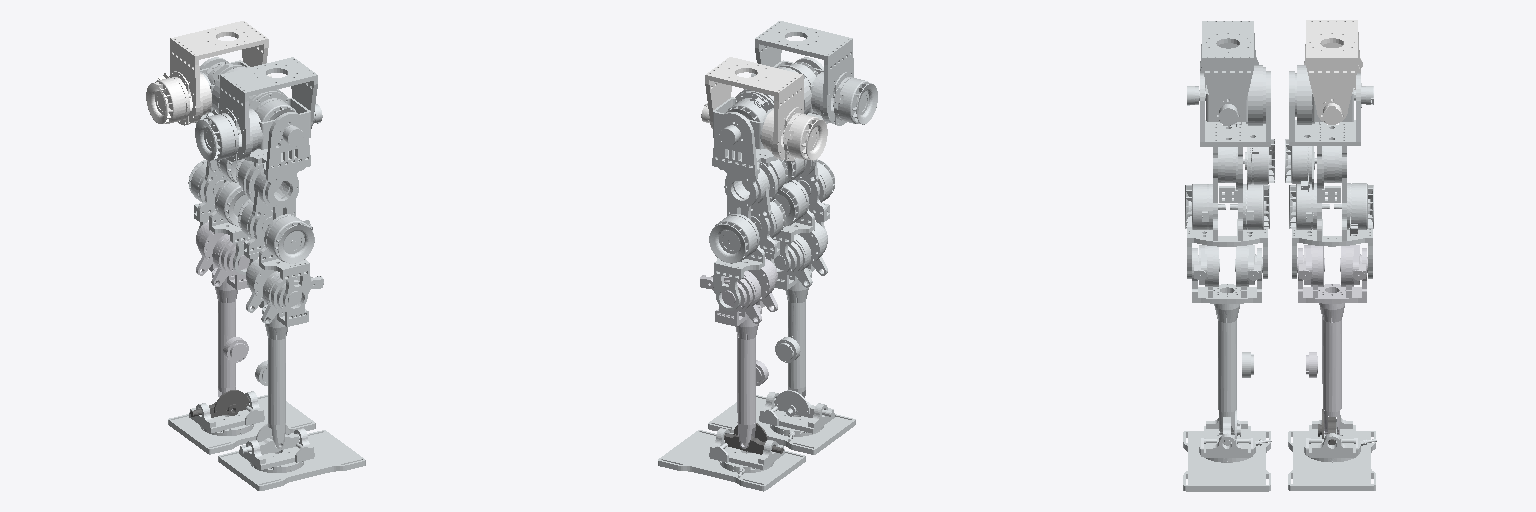
The robot description file, URDF, robot "surenav_urdf_nolink":
<?xml version="1.0" encoding="utf-8"?>
<!-- This URDF was automatically created by SolidWorks to URDF Exporter! Originally created by [author] ([email redacted]) 
     Commit Version: 1.5.1-0-g916b5db  Build Version: 1.5.7152.31018
     For more information, please see http://wiki.ros.org/sw_urdf_exporter -->
<robot
  name="surenav_urdf_nolink">
  <link
    name="base_link">
    <inertial>
      <origin
        xyz="0.00818 -0.00179 0.16869"
        rpy="0 0 0" />
      <mass
        value="13.26646" />
      <inertia
        ixx="332984918.15E-09"
        ixy="307831E-09"
        ixz="29914617.86E-09"
        iyy="274230277.97E-09"
        iyz="-4492301.25E-09"
        izz="134508501.33E-09" />
    </inertial>
    <visual>
      <origin
        xyz="0 0 0"
        rpy="0 0 0" />
      <geometry>
        <mesh
          filename="package://surenav_urdf_nolink/meshes/base_link.STL" />
      </geometry>
      <material
        name="">
        <color
          rgba="0.752941176470588 0.752941176470588 0.752941176470588 1" />
      </material>
    </visual>
    <collision>
      <origin
        xyz="0 0 0"
        rpy="0 0 0" />
      <geometry>
        <mesh
          filename="package://surenav_urdf_nolink/meshes/base_link.STL" />
      </geometry>
    </collision>
  </link>
  <link
    name="r_hip_yaw_link">
    <inertial>
      <origin
        xyz="-0.07623 0.00014361 -0.090014"
        rpy="0 0 0" />
      <mass
        value="3.1729" />
      <inertia
        ixx="8929283.98E-09"
        ixy="-21205.17E-09"
        ixz="3833057.75E-09"
        iyy="19584487.55E-09"
        iyz="-1821.5E-09"
        izz="15246525.80E-09" />
    </inertial>
    <visual>
      <origin
        xyz="0 0 0"
        rpy="0 0 0" />
      <geometry>
        <mesh
          filename="package://surenav_urdf_nolink/meshes/r_hip_yaw_link.STL" />
      </geometry>
      <material
        name="">
        <color
          rgba="0.89804 0.91765 0.92941 1" />
      </material>
    </visual>
    <collision>
      <origin
        xyz="0 0 0"
        rpy="0 0 0" />
      <geometry>
        <mesh
          filename="package://surenav_urdf_nolink/meshes/r_hip_yaw_link.STL" />
      </geometry>
    </collision>
  </link>
  <joint
    name="r_hip_yaw_joint"
    type="fixed">
    <origin
      xyz="0.016506 -0.1 -0.026"
      rpy="0 0 0" />
    <parent
      link="base_link" />
    <child
      link="r_hip_yaw_link" />
    <axis
      xyz="0 0 0" />
    <!--limit
      lower="0"
      upper="0"
      effort="0"
      velocity="0" /-->
    <limit effort="1000.0" lower="-100" upper="100" velocity="0.5"/>
  </joint>
  <link
    name="r_hip_roll_link">
    <inertial>
      <origin
        xyz="0.000984969543886728 0.0247755120757208 -0.00015880471566998"
        rpy="0 0 0" />
      <mass
        value="2.44028233906507" />
      <inertia
        ixx="5217937.18E-09"
        ixy="-56992.30E-09"
        ixz="-6391.68E-09"
        iyy="3987938.51E-09"
        iyz="4815.28E-09"
        izz="5553044.11E-09" />
    </inertial>
    <visual>
      <origin
        xyz="0 0 0"
        rpy="0 0 0" />
      <geometry>
        <mesh
          filename="package://surenav_urdf_nolink/meshes/r_hip_roll_link.STL" />
      </geometry>
      <material
        name="">
        <color
          rgba="0.898039215686275 0.917647058823529 0.929411764705882 1" />
      </material>
    </visual>
    <collision>
      <origin
        xyz="0 0 0"
        rpy="0 0 0" />
      <geometry>
        <mesh
          filename="package://surenav_urdf_nolink/meshes/r_hip_roll_link.STL" />
      </geometry>
    </collision>
  </link>
  <joint
    name="r_hip_roll_joint"
    type="revolute">
    <origin
      xyz="-0.002 0 -0.1113"
      rpy="0 0 0" />
    <parent
      link="r_hip_yaw_link" />
    <child
      link="r_hip_roll_link" />
    <axis
      xyz="1 0 0" />
    <!--limit
      lower="0"
      upper="0"
      effort="0"
      velocity="0" /-->
    <limit effort="1000.0" lower="-100" upper="100" velocity="0.5"/>
  </joint>
  <link
    name="r_hip_pitch_link">
    <inertial>
      <origin
        xyz="-0.00086 0.01229 -0.18794"
        rpy="0 0 0" />
      <mass
        value="5.27157" />
      <inertia
        ixx="49460315.63E-09"
        ixy="127037.57E-09"
        ixz="827222.84E-09"
        iyy="40774320.32E-09"
        iyz="4561394.08E-09"
        izz="15641537.19E-09" />
    </inertial>
    <visual>
      <origin
        xyz="0 0 0"
        rpy="0 0 0" />
      <geometry>
        <mesh
          filename="package://surenav_urdf_nolink/meshes/r_hip_pitch_link.STL" />
      </geometry>
      <material
        name="">
        <color
          rgba="0.898039215686275 0.917647058823529 0.929411764705882 1" />
      </material>
    </visual>
    <collision>
      <origin
        xyz="0 0 0"
        rpy="0 0 0" />
      <geometry>
        <mesh
          filename="package://surenav_urdf_nolink/meshes/r_hip_pitch_link.STL" />
      </geometry>
    </collision>
  </link>
  <joint
    name="r_hip_pitch_joint"
    type="revolute">
    <origin
      xyz="0 0 0"
      rpy="0 0 0" />
    <parent
      link="r_hip_roll_link" />
    <child
      link="r_hip_pitch_link" />
    <axis
      xyz="0 -1 0" />
    <!--limit
      lower="0"
      upper="0"
      effort="0"
      velocity="0" /-->
    <limit effort="1000.0" lower="-100" upper="100" velocity="0.5"/>
  </joint>
  <link
    name="r_knee_link">
    <inertial>
      <origin
        xyz="0.01649 0.00164 -0.08690"
        rpy="0 0 0" />
      <mass
        value="2.23575" />
      <inertia
        ixx="32098078.78E-09"
        ixy="-53528.00E-09"
        ixz="-355923.32E-09"
        iyy="30953084.53E-09"
        iyz="-465088.29E-09"
        izz="5703262.33E-09" />
    </inertial>
    <visual>
      <origin
        xyz="0 0 0"
        rpy="0 0 0" />
      <geometry>
        <mesh
          filename="package://surenav_urdf_nolink/meshes/r_knee_link.STL" />
      </geometry>
      <material
        name="">
        <color
          rgba="0.898039215686275 0.917647058823529 0.929411764705882 1" />
      </material>
    </visual>
    <collision>
      <origin
        xyz="0 0 0"
        rpy="0 0 0" />
      <geometry>
        <mesh
          filename="package://surenav_urdf_nolink/meshes/r_knee_link.STL" />
      </geometry>
    </collision>
  </link>
  <joint
    name="r_knee_joint"
    type="revolute">
    <origin
      xyz="8.90422801721746E-05 -0.00199999999999427 -0.360035173572729"
      rpy="0 0 0" />
    <parent
      link="r_hip_pitch_link" />
    <child
      link="r_knee_link" />
    <axis
      xyz="0 -1 0" />
    <!--limit
      lower="0"
      upper="0"
      effort="0"
      velocity="0" /-->
    <limit effort="1000.0" lower="-100" upper="100" velocity="0.5"/>
  </joint>
  <link
    name="r_ankle_pitch_link">
    <inertial>
      <origin
        xyz="-0.03478 0.00111 -0.00042"
        rpy="0 0 0" />
      <mass
        value="0.18834" />
      <inertia
        ixx="29449.50E-09"
        ixy="7347.02E-09"
        ixz="-3099.27E-09"
        iyy="363852.27E-09"
        iyz="2750.26E-09"
        izz="359077.66E-09" />
    </inertial>
    <visual>
      <origin
        xyz="0 0 0"
        rpy="0 0 0" />
      <geometry>
        <mesh
          filename="package://surenav_urdf_nolink/meshes/r_ankle_pitch_link.STL" />
      </geometry>
      <material
        name="">
        <color
          rgba="0.898039215686275 0.917647058823529 0.929411764705882 1" />
      </material>
    </visual>
    <collision>
      <origin
        xyz="0 0 0"
        rpy="0 0 0" />
      <geometry>
        <mesh
          filename="package://surenav_urdf_nolink/meshes/r_ankle_pitch_link.STL" />
      </geometry>
    </collision>
  </link>
  <joint
    name="r_ankle_pitch_joint"
    type="revolute">
    <origin
      xyz="0.000997412382606738 0 -0.350014948599999"
      rpy="0 0 0" />
    <parent
      link="r_knee_link" />
    <child
      link="r_ankle_pitch_link" />
    <axis
      xyz="0 1 0" />
    <!--limit
      lower="0"
      upper="0"
      effort="0"
      velocity="0" /-->
    <limit effort="1000.0" lower="-100" upper="100" velocity="0.5"/>
  </joint>
  <link
    name="r_ankle_roll_link">
    <inertial>
      <origin
        xyz="0.0261782638901839 0.000138793078492322 -0.040153711347177"
        rpy="0 0 0" />
      <mass
        value="1.8066" />
      <inertia
        ixx="3491091.22E-09"
        ixy="-12700.75E-09"
        ixz="-370501.43E-09"
        iyy="8640458.28E-09"
        iyz="1060.27E-09"
        izz="11463586.62E-09" />
    </inertial>
    <visual>
      <origin
        xyz="0 0 0"
        rpy="0 0 0" />
      <geometry>
        <mesh
          filename="package://surenav_urdf_nolink/meshes/r_ankle_roll_link.STL" />
      </geometry>
      <material
        name="">
        <color
          rgba="0.898039215686275 0.917647058823529 0.929411764705882 1" />
      </material>
    </visual>
    <collision>
      <origin
        xyz="0 0 0"
        rpy="0 0 0" />
      <geometry>
        <mesh
          filename="package://surenav_urdf_nolink/meshes/r_ankle_roll_link.STL" />
      </geometry>
    </collision>
  </link>
  <joint
    name="r_ankle_roll_joint"
    type="revolute">
    <origin
      xyz="0 0 5.60144157897291E-05"
      rpy="0 0 0" />
    <parent
      link="r_ankle_pitch_link" />
    <child
      link="r_ankle_roll_link" />
    <axis
      xyz="-1 0 0" />
    <!--limit
      lower="0"
      upper="0"
      effort="0"
      velocity="0" /-->
    <limit effort="1000.0" lower="-100" upper="100" velocity="0.5"/>
  </joint>
  <link
    name="l_hip_yaw_link">
    <inertial>
      <origin
        xyz="-0.07571 0.00009 -0.09"
        rpy="0 0 0" />
      <mass
        value="3.1707" />
      <inertia
        ixx="8925306.69E-09"
        ixy="-14981.60E-09"
        ixz="3799016.92E-09"
        iyy="19351339.17E-09"
        iyz="1589.68E-09"
        izz="15015860.89E-09" />
    </inertial>
    <visual>
      <origin
        xyz="0 0 0"
        rpy="0 0 0" />
      <geometry>
        <mesh
          filename="package://surenav_urdf_nolink/meshes/l_hip_yaw_link.STL" />
      </geometry>
      <material
        name="">
        <color
          rgba="1 1 1 1" />
      </material>
    </visual>
    <collision>
      <origin
        xyz="0 0 0"
        rpy="0 0 0" />
      <geometry>
        <mesh
          filename="package://surenav_urdf_nolink/meshes/l_hip_yaw_link.STL" />
      </geometry>
    </collision>
  </link>
  <joint
    name="l_hip_yaw_joint"
    type="fixed">
    <origin
      xyz="0.01650599171992 0.100000001517939 -0.0256"
      rpy="0 0 0" />
    <parent
      link="base_link" />
    <child
      link="l_hip_yaw_link" />
    <axis
      xyz="0 0 0" />
    <!--limit
      lower="0"
      upper="0"
      effort="0"
      velocity="0" /-->
    <limit effort="1000.0" lower="-100" upper="100" velocity="0.5"/>
  </joint>
  <link
    name="l_hip_roll_link">
    <inertial>
      <origin
        xyz="0.00085 -0.02478 0.00015"
        rpy="0 0 0" />
      <mass
        value="2.43805" />
      <inertia
        ixx="5214396.90E-09"
        ixy="53098.89E-09"
        ixz="-8574.92E-09"
        iyy="3985605E-09"
        iyz="4482.24E-09"
        izz="5554247.3E-09" />
    </inertial>
    <visual>
      <origin
        xyz="0 0 0"
        rpy="0 0 0" />
      <geometry>
        <mesh
          filename="package://surenav_urdf_nolink/meshes/l_hip_roll_link.STL" />
      </geometry>
      <material
        name="">
        <color
          rgba="0.898039215686275 0.917647058823529 0.929411764705882 1" />
      </material>
    </visual>
    <collision>
      <origin
        xyz="0 0 0"
        rpy="0 0 0" />
      <geometry>
        <mesh
          filename="package://surenav_urdf_nolink/meshes/l_hip_roll_link.STL" />
      </geometry>
    </collision>
  </link>
  <joint
    name="l_hip_roll_joint"
    type="revolute">
    <origin
      xyz="-0.00199999999999425 0 -0.11129999969309"
      rpy="0 0 0" />
    <parent
      link="l_hip_yaw_link" />
    <child
      link="l_hip_roll_link" />
    <axis
      xyz="1 0 0" />
    <!--limit
      lower="0"
      upper="0"
      effort="0"
      velocity="0" /-->
    <limit effort="1000.0" lower="-100" upper="100" velocity="0.5"/>
  </joint>
  <link
    name="l_hip_pitch_link">
    <inertial>
      <origin
        xyz="-0.00086 -0.013 -0.18504"
        rpy="0 0 0" />
      <mass
        value="5.61487" />
      <inertia
        ixx="50456343.28E-09"
        ixy="-139977.67E-09"
        ixz="787977.57E-09"
        iyy="42055621.32E-09"
        iyz="-4073599.3E-09"
        izz="15900319.78E-09" />
    </inertial>
    <visual>
      <origin
        xyz="0 0 0"
        rpy="0 0 0" />
      <geometry>
        <mesh
          filename="package://surenav_urdf_nolink/meshes/l_hip_pitch_link.STL" />
      </geometry>
      <material
        name="">
        <color
          rgba="0.898039215686275 0.917647058823529 0.929411764705882 1" />
      </material>
    </visual>
    <collision>
      <origin
        xyz="0 0 0"
        rpy="0 0 0" />
      <geometry>
        <mesh
          filename="package://surenav_urdf_nolink/meshes/l_hip_pitch_link.STL" />
      </geometry>
    </collision>
  </link>
  <joint
    name="l_hip_pitch_joint"
    type="revolute">
    <origin
      xyz="0 0 0"
      rpy="0 0 0" />
    <parent
      link="l_hip_roll_link" />
    <child
      link="l_hip_pitch_link" />
    <axis
      xyz="0 1 0" />
    <!--limit
      lower="0"
      upper="0"
      effort="0"
      velocity="0" /-->
    <limit effort="1000.0" lower="-100" upper="100" velocity="0.5"/>
  </joint>
  <link
    name="l_knee_link">
    <inertial>
      <origin
        xyz="0.01575 -0.00162 -0.08673"
        rpy="0 0 0" />
      <mass
        value="2.23418" />
      <inertia
        ixx="31992216.05E-09"
        ixy="60131.35E-09"
        ixz="-310433.24E-09"
        iyy="30880490.34E-09"
        iyz="438008.7E-09"
        izz="5724563.57E-09" />
    </inertial>
    <visual>
      <origin
        xyz="0 0 0"
        rpy="0 0 0" />
      <geometry>
        <mesh
          filename="package://surenav_urdf_nolink/meshes/l_knee_link.STL" />
      </geometry>
      <material
        name="">
        <color
          rgba="0.890196078431372 0.890196078431372 0.913725490196078 1" />
      </material>
    </visual>
    <collision>
      <origin
        xyz="0 0 0"
        rpy="0 0 0" />
      <geometry>
        <mesh
          filename="package://surenav_urdf_nolink/meshes/l_knee_link.STL" />
      </geometry>
    </collision>
  </link>
  <joint
    name="l_knee_joint"
    type="revolute">
    <origin
      xyz="0.00103757953495294 0 -0.35988271232031"
      rpy="0 0 0" />
    <parent
      link="l_hip_pitch_link" />
    <child
      link="l_knee_link" />
    <axis
      xyz="0 -1 0" />
    <!--limit
      lower="0"
      upper="0"
      effort="0"
      velocity="0" /-->
    <limit effort="1000.0" lower="-100" upper="100" velocity="0.5"/>
  </joint>
  <link
    name="l_ankle_pitch_link">
    <inertial>
      <origin
        xyz="-0.003478 -0.00112 -0.00042"
        rpy="0 0 0" />
      <mass
        value="0.18834" />
      <inertia
        ixx="29444.91E-09"
        ixy="-7241.52E-09"
        ixz="-3110.24E-09"
        iyy="363885.79E-09"
        iyz="-2909.32E-09"
        izz="359039.5E-09" />
    </inertial>
    <visual>
      <origin
        xyz="0 0 0"
        rpy="0 0 0" />
      <geometry>
        <mesh
          filename="package://surenav_urdf_nolink/meshes/l_ankle_pitch_link.STL" />
      </geometry>
      <material
        name="">
        <color
          rgba="0.498039215686275 0.498039215686275 0.498039215686275 1" />
      </material>
    </visual>
    <collision>
      <origin
        xyz="0 0 0"
        rpy="0 0 0" />
      <geometry>
        <mesh
          filename="package://surenav_urdf_nolink/meshes/l_ankle_pitch_link.STL" />
      </geometry>
    </collision>
  </link>
  <joint
    name="l_ankle_pitch_joint"
    type="revolute">
    <origin
      xyz="0 0 -0.349994948601546"
      rpy="0 0 0" />
    <parent
      link="l_knee_link" />
    <child
      link="l_ankle_pitch_link" />
    <axis
      xyz="0 1 0" />
    <!--limit
      lower="0"
      upper="0"
      effort="0"
      velocity="0" /-->
    <limit effort="1000.0" lower="-100" upper="100" velocity="0.5"/>
  </joint>
  <link
    name="l_ankle_roll_link">
    <inertial>
      <origin
        xyz="0.02617 0.00013891 -0.040175"
        rpy="0 0 0" />
      <mass
        value="1.8051" />
      <inertia
        ixx="3487009E-09"
        ixy="-12699.09-09"
        ixz="-370914.50E-09"
        iyy="8639023.92E-09"
        iyz="1065.7E-09"
        izz="11460357.2E-09" />
    </inertial>
    <visual>
      <origin
        xyz="0 0 0"
        rpy="0 0 0" />
      <geometry>
        <mesh
          filename="package://surenav_urdf_nolink/meshes/l_ankle_roll_link.STL" />
      </geometry>
      <material
        name="">
        <color
          rgba="0.89804 0.91765 0.92941 1" />
      </material>
    </visual>
    <collision>
      <origin
        xyz="0 0 0"
        rpy="0 0 0" />
      <geometry>
        <mesh
          filename="package://surenav_urdf_nolink/meshes/l_ankle_roll_link.STL" />
      </geometry>
    </collision>
  </link>
  <joint
    name="l_ankle_roll_joint"
    type="revolute">
    <origin
      xyz="0 0 5.60157164942732E-05"
      rpy="0 0 0" />
    <parent
      link="l_ankle_pitch_link" />
    <child
      link="l_ankle_roll_link" />
    <axis
      xyz="-1 0 0" />
    <!--limit
      lower="0"
      upper="0"
      effort="0"
      velocity="0" /-->
    <limit effort="1000.0" lower="-100" upper="100" velocity="0.5"/>
  </joint>
</robot>

--- Render facts (derived) ---
Views: 3 orthographic renders of the robot side by side, from view 1: azimuth 30°, elevation 25°; view 2: azimuth 150°, elevation 25°; view 3: azimuth 270°, elevation 25°.
Robot: surenav_urdf_nolink — 13 links, 12 joints (10 revolute, 2 fixed); root link base_link; default pose: all joints at 0.
Visible links, largest first — view 1: r_hip_pitch_link, r_hip_yaw_link, l_hip_yaw_link, r_knee_link, r_ankle_roll_link, l_knee_link, l_hip_pitch_link, l_ankle_roll_link, r_hip_roll_link, l_ankle_pitch_link, l_hip_roll_link, r_ankle_pitch_link; view 2: l_hip_pitch_link, l_hip_yaw_link, r_hip_yaw_link, l_knee_link, l_ankle_roll_link, r_knee_link, r_hip_pitch_link, r_ankle_roll_link, l_hip_roll_link, r_ankle_pitch_link, r_hip_roll_link, l_ankle_pitch_link; view 3: l_hip_pitch_link, r_hip_pitch_link, r_knee_link, l_knee_link, r_ankle_roll_link, l_ankle_roll_link, l_hip_yaw_link, r_hip_yaw_link, r_hip_roll_link, l_hip_roll_link.
Boxes of the visible links, left/top/right/bottom form: r_hip_pitch_link: left=236, top=112, right=314, bottom=311; r_hip_yaw_link: left=195, top=57, right=322, bottom=161; l_hip_yaw_link: left=146, top=21, right=271, bottom=125; r_knee_link: left=246, top=259, right=323, bottom=448; r_ankle_roll_link: left=218, top=428, right=365, bottom=490; l_knee_link: left=196, top=222, right=249, bottom=410; l_hip_pitch_link: left=188, top=57, right=250, bottom=274; l_ankle_roll_link: left=168, top=391, right=315, bottom=454; r_hip_roll_link: left=249, top=89, right=310, bottom=149; l_ankle_pitch_link: left=190, top=390, right=249, bottom=417; l_hip_roll_link: left=200, top=60, right=249, bottom=113; r_ankle_pitch_link: left=240, top=423, right=299, bottom=454; l_hip_pitch_link: left=709, top=112, right=787, bottom=310; l_hip_yaw_link: left=701, top=57, right=827, bottom=160; r_hip_yaw_link: left=751, top=21, right=877, bottom=125; l_knee_link: left=700, top=258, right=777, bottom=448; l_ankle_roll_link: left=658, top=428, right=805, bottom=491; r_knee_link: left=774, top=222, right=827, bottom=410; r_hip_pitch_link: left=773, top=57, right=834, bottom=274; r_ankle_roll_link: left=708, top=392, right=855, bottom=454; l_hip_roll_link: left=713, top=89, right=773, bottom=149; r_ankle_pitch_link: left=774, top=390, right=833, bottom=417; r_hip_roll_link: left=774, top=60, right=823, bottom=114; l_ankle_pitch_link: left=724, top=423, right=783, bottom=454; l_hip_pitch_link: left=1285, top=71, right=1373, bottom=278; r_hip_pitch_link: left=1185, top=71, right=1274, bottom=278; r_knee_link: left=1192, top=245, right=1262, bottom=434; l_knee_link: left=1297, top=245, right=1367, bottom=434; r_ankle_roll_link: left=1183, top=418, right=1271, bottom=491; l_ankle_roll_link: left=1288, top=415, right=1376, bottom=490; l_hip_yaw_link: left=1304, top=20, right=1362, bottom=124; r_hip_yaw_link: left=1200, top=21, right=1258, bottom=126; r_hip_roll_link: left=1187, top=65, right=1265, bottom=126; l_hip_roll_link: left=1295, top=65, right=1373, bottom=124.
Size in the robot's own frame: 0.3255 by 0.3715 by 0.8767 metres.
12 mesh visuals loaded from 13 distinct referenced files (12 binary STL); not drawn: 1 (reference not matched to a file when rendering).
